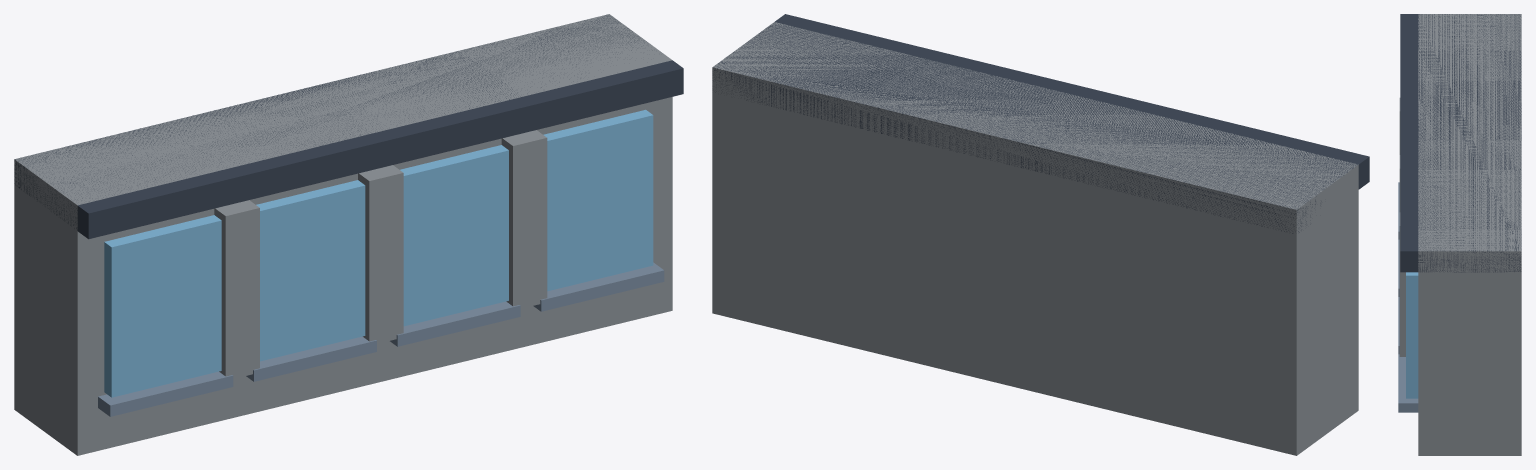
The model's file is cittaArdesiaPianoB.glb.
The picture shows the model from 3 angles, left to right: view 1: azimuth 30°, elevation 25°; view 2: azimuth 150°, elevation 25°; view 3: azimuth 270°, elevation 25°; orthographic projection. The views are drawn at different scales.
Parts seen in each view (by area): view 1: cittaArdesiaPianoB_cittaArdesia, cittaArdesiaPianoB_glass, cittaArdesiaPianoB_steelDark, cittaArdesiaPianoB_steel; view 2: cittaArdesiaPianoB_cittaArdesia, cittaArdesiaPianoB_steelDark; view 3: cittaArdesiaPianoB_cittaArdesia, cittaArdesiaPianoB_steelDark, cittaArdesiaPianoB_glass, cittaArdesiaPianoB_steel.
Part boxes in pixels (left/top/right/bottom): cittaArdesiaPianoB_cittaArdesia: left=14, top=14, right=672, bottom=455; cittaArdesiaPianoB_glass: left=104, top=109, right=653, bottom=397; cittaArdesiaPianoB_steelDark: left=14, top=14, right=683, bottom=239; cittaArdesiaPianoB_steel: left=98, top=262, right=664, bottom=416; cittaArdesiaPianoB_cittaArdesia: left=712, top=22, right=1358, bottom=455; cittaArdesiaPianoB_steelDark: left=712, top=14, right=1369, bottom=233; cittaArdesiaPianoB_cittaArdesia: left=1399, top=14, right=1521, bottom=455; cittaArdesiaPianoB_steelDark: left=1400, top=14, right=1521, bottom=272; cittaArdesiaPianoB_glass: left=1406, top=272, right=1418, bottom=398; cittaArdesiaPianoB_steel: left=1398, top=182, right=1418, bottom=412.
Bounding box in the file's own units: 8.7 × 3.5 × 1.91.
